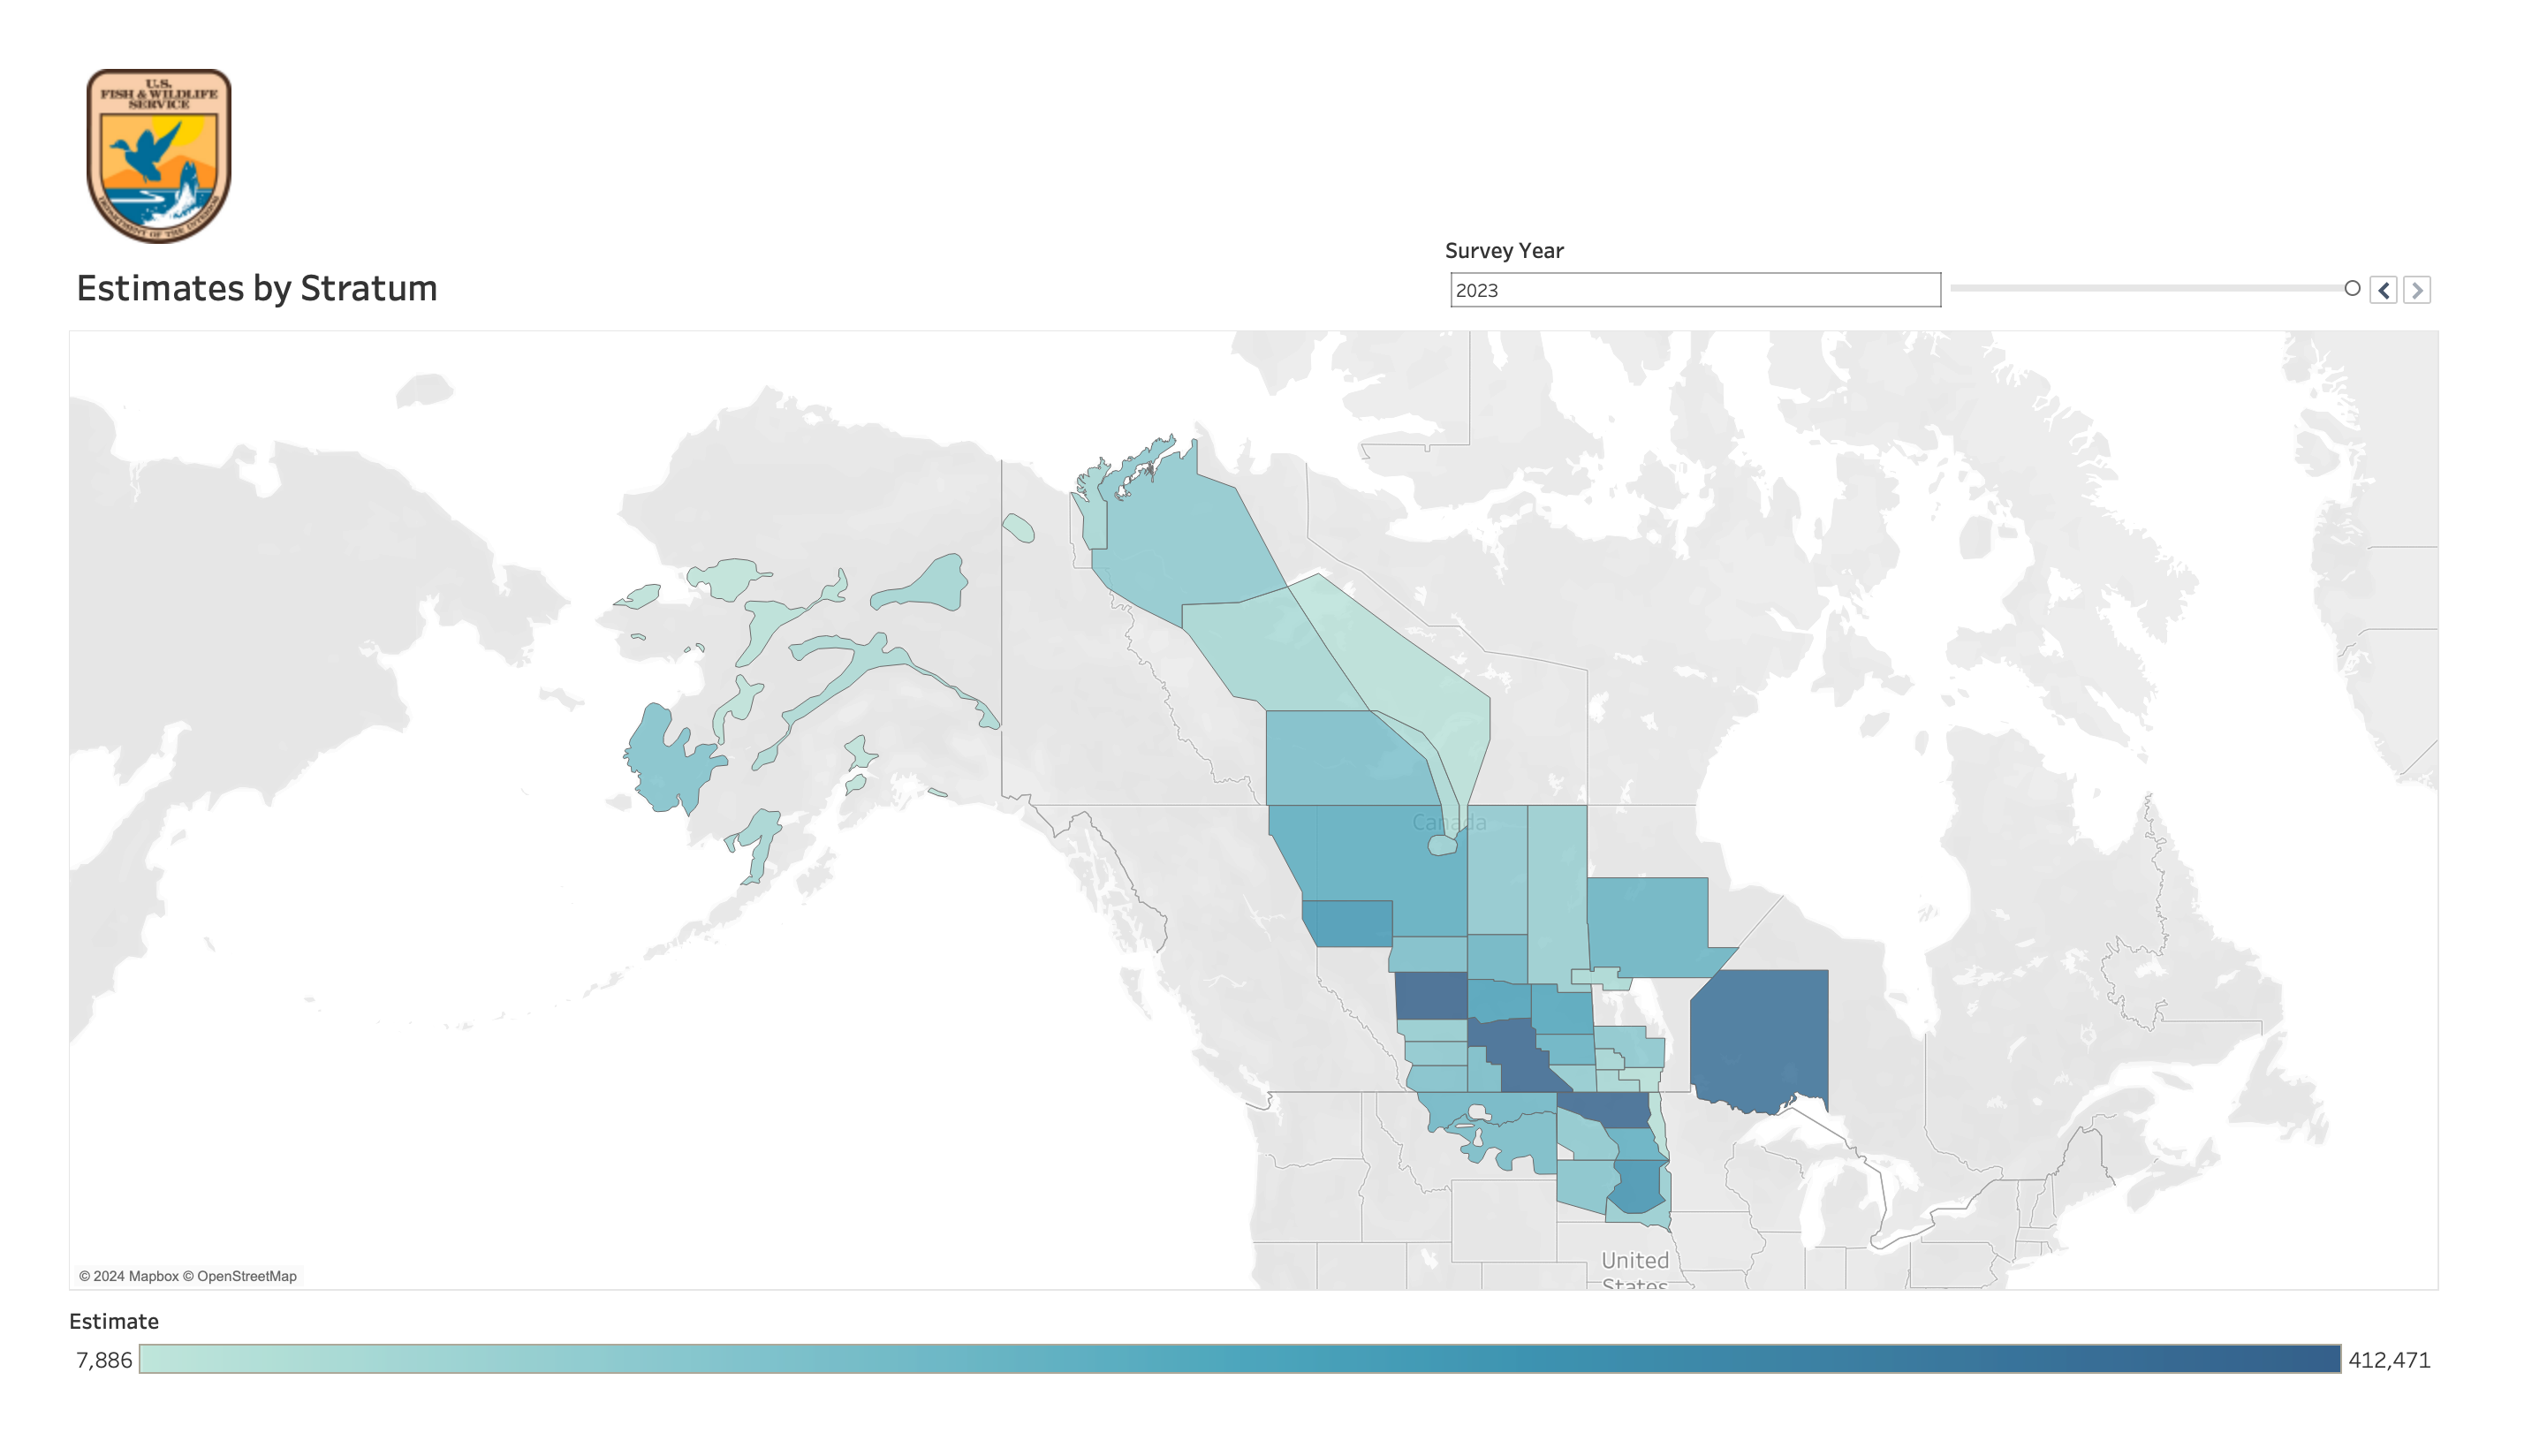

Layout of this report page (visuals, bound fields, positions):
{"tool":"tableau","page":{"name":"Spatial Data Dashboard","canvas":[1366,768],"ordinal":3},"visuals":[{"type":"blank","box":[8,8,1350,107]},{"type":"image","box":[6,14,115,99]},{"type":"filter","title":"Spatial ","param":"[federated.05dz6y113amipk1bxxo3y0p37jxl].[none:survey_year:nk]","box":[791,108,562,48]},{"type":"worksheet","title":"Spatial ","mark":"Automatic","box":[8,115,1350,595]},{"type":"legend","title":"Spatial ","param":"[federated.05dz6y113amipk1bxxo3y0p37jxl].[sum:estimate:qk]","box":[8,710,1350,50]}]}

Visuals, with their boxes in screenshot pixels (x1, y1, x2, y2), scaled from the page's 1366x768 canvas onto the 2532x1456 screenshot:
blank: [15, 15, 2517, 218]
image: [11, 27, 224, 214]
"Spatial " filter: [1467, 205, 2508, 296]
"Spatial " worksheet: [15, 218, 2517, 1346]
"Spatial " legend: [15, 1346, 2517, 1441]
